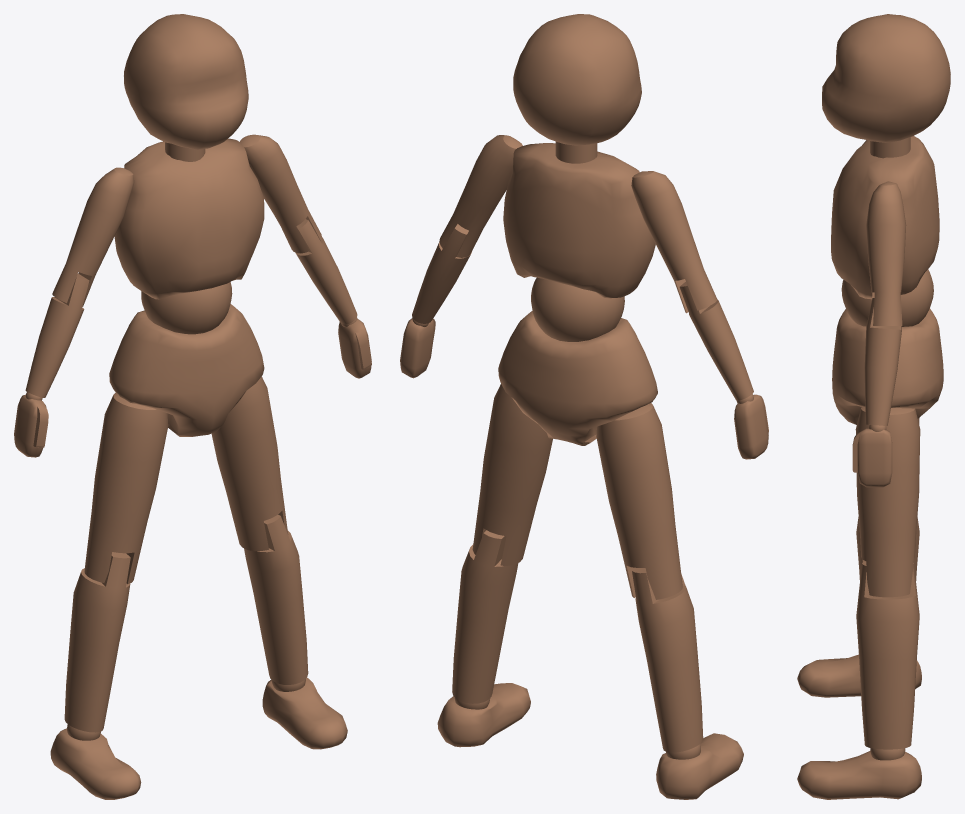
Rendered from Puppet_base_model_2.fbx.
3 views of the same model, side by side, from view 1: azimuth 30°, elevation 25°; view 2: azimuth 150°, elevation 25°; view 3: azimuth 270°, elevation 25° (orthographic). The views are drawn at different scales.
Parts seen in each view (by area): view 1: Wodden_Model; view 2: Wodden_Model; view 3: Wodden_Model.
Boxes of the visible parts, left/top/right/bottom form: Wodden_Model: left=14, top=14, right=371, bottom=799; Wodden_Model: left=400, top=14, right=768, bottom=799; Wodden_Model: left=797, top=14, right=950, bottom=799.
Bounding box in the file's own units: 0.4943 × 0.9909 × 0.1909.
